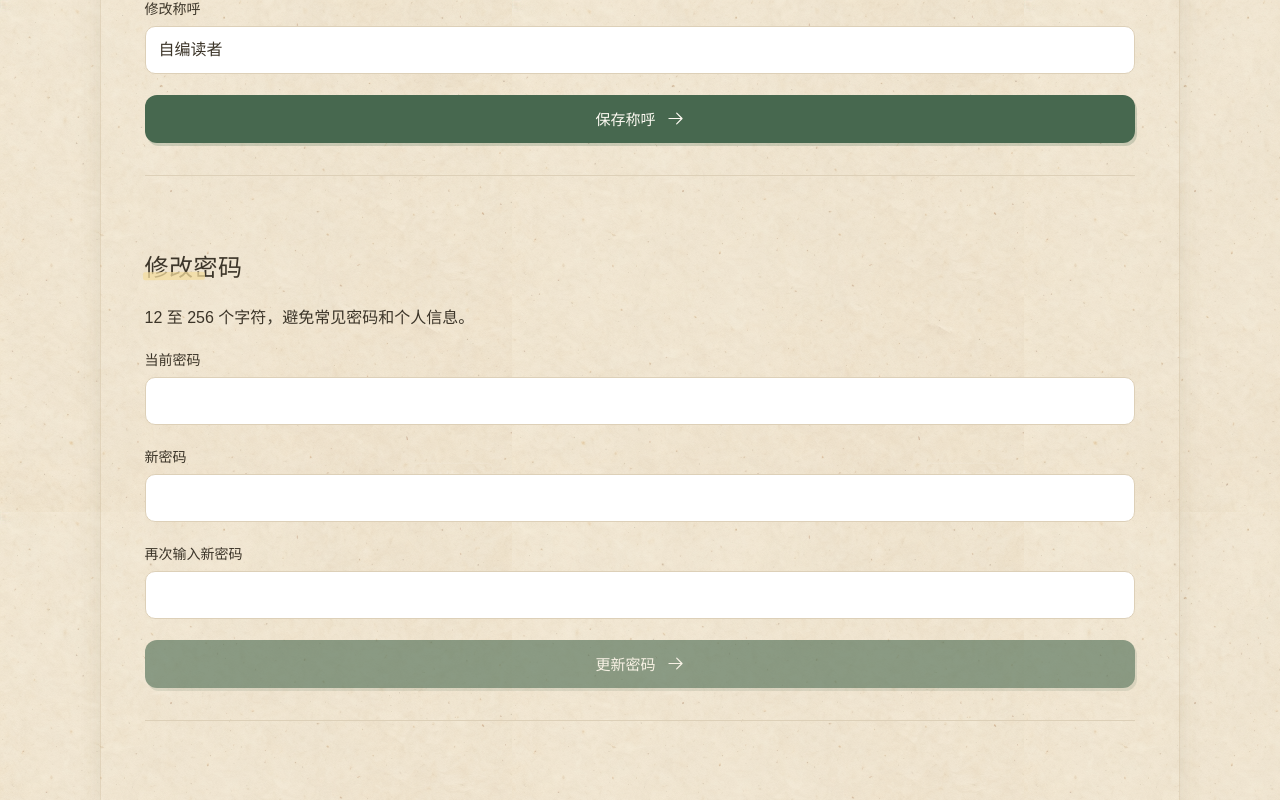
改密保留首尾空白，成功清空三个密码输入，不假称全退出
(page scrolled)
Check: the field labelled "修改称呼" is shown, box top-left (144, 26), bottom-right (1136, 74)
Check: the text "12 至 256 个字符，避免常见密码和个人信息。" is shown, box top-left (144, 308), bottom-right (474, 326)
Type "  old-password  " into the password field labelled "当前密码". click: (640, 401)
box: top-left (144, 377), bottom-right (1136, 425)
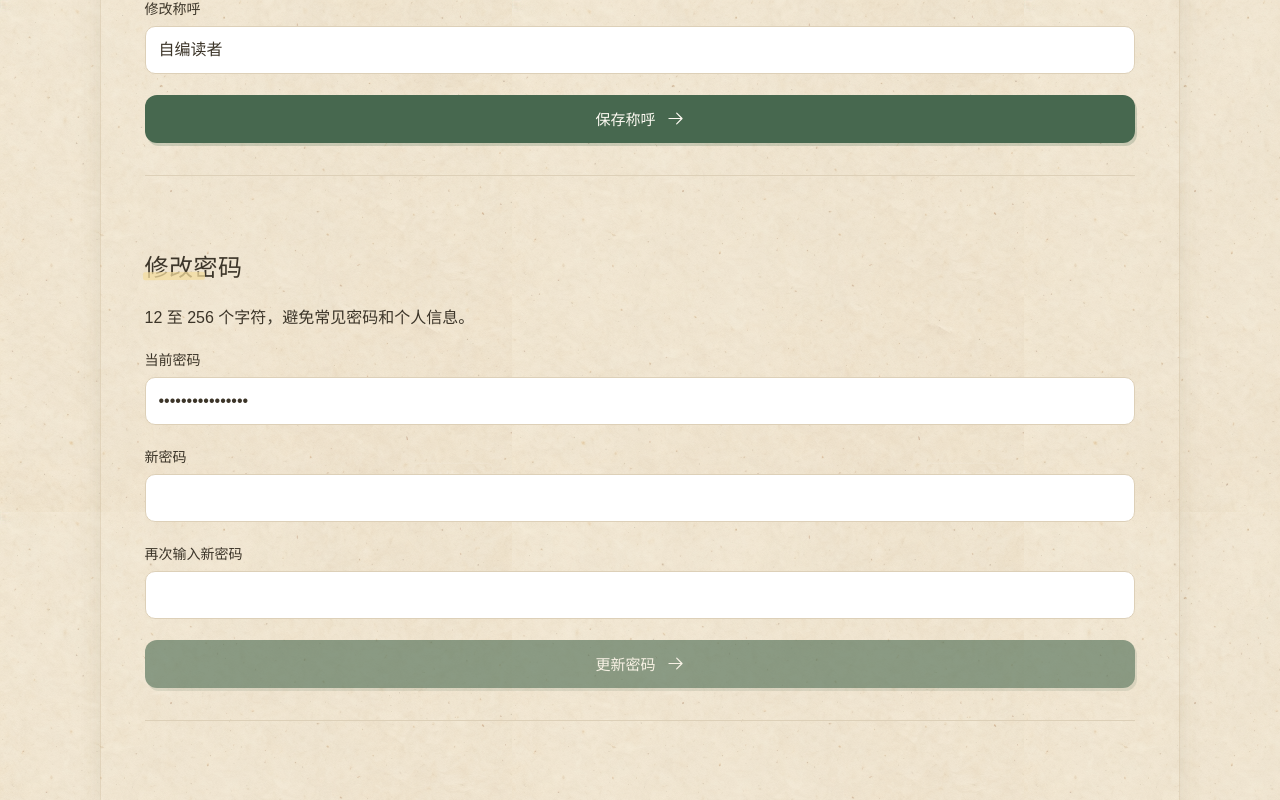
Type "  New-Library-Password!  " into the password field labelled "新密码". click: (640, 498)
box: top-left (144, 474), bottom-right (1136, 522)
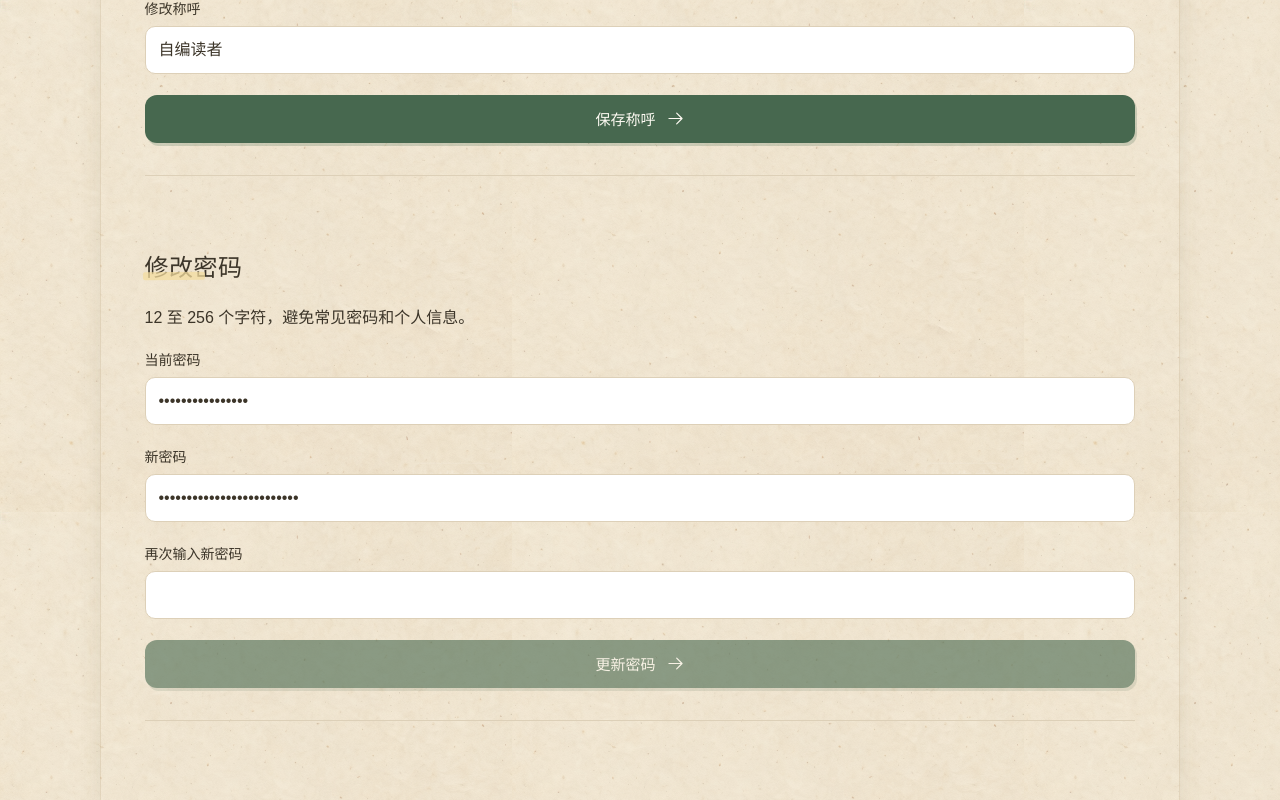
Type "  New-Library-Password!  " into the password field labelled "再次输入新密码". click: (640, 595)
box: top-left (144, 571), bottom-right (1136, 619)
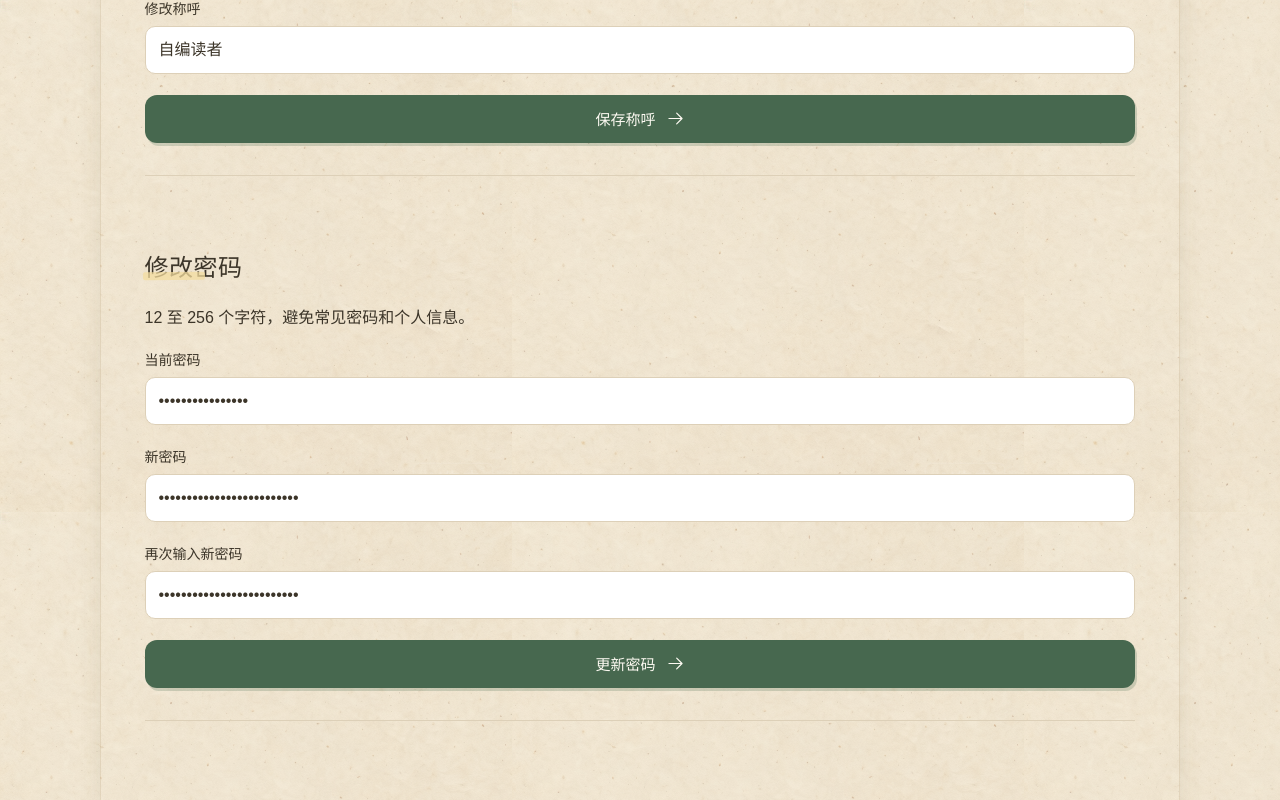
Click the button "更新密码". click: (640, 664)
box: top-left (144, 640), bottom-right (1136, 688)
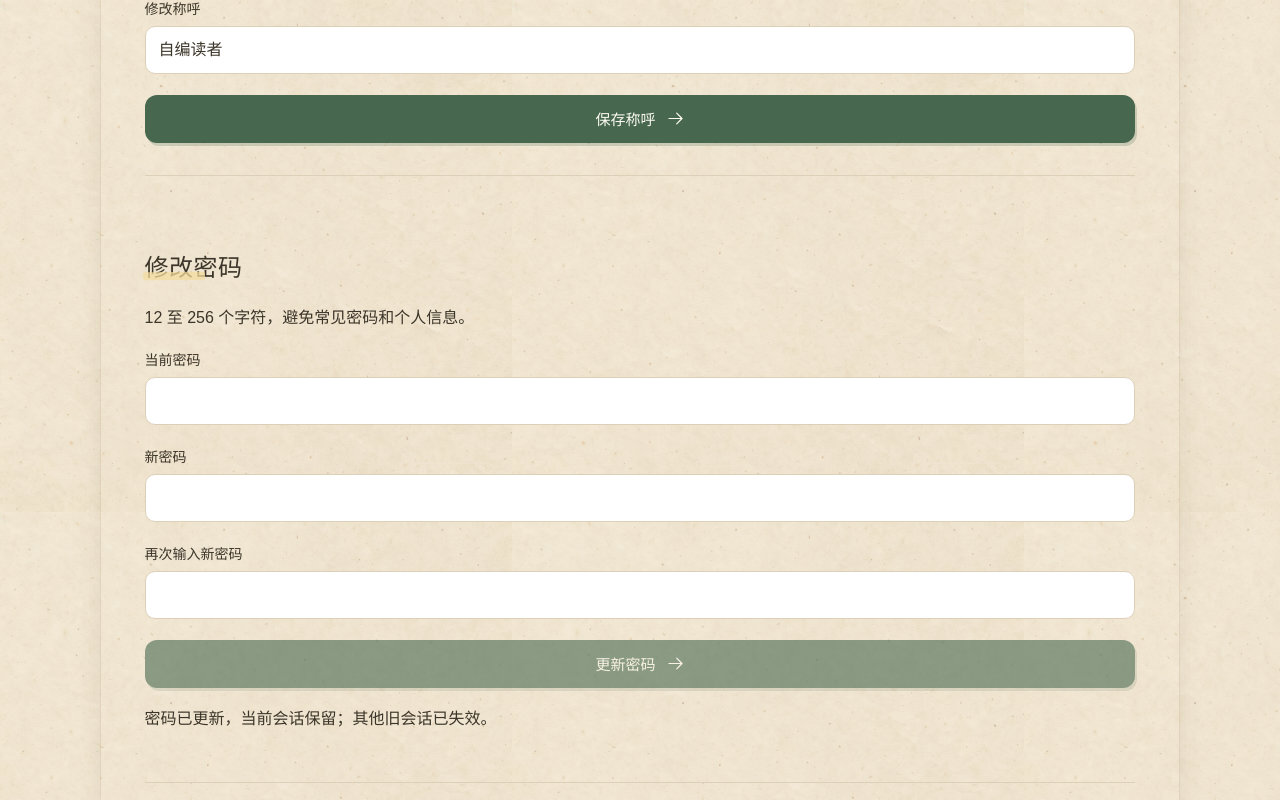
Check: the text "密码已更新，当前会话保留；其他旧会话已失效。" is shown, box top-left (144, 710), bottom-right (496, 727)
Check: the password field labelled "当前密码" is empty, box top-left (144, 377), bottom-right (1136, 425)
Check: the password field labelled "新密码" is empty, box top-left (144, 474), bottom-right (1136, 522)
